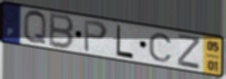B: (47, 12, 76, 52)
C: (147, 32, 174, 64)
L: (115, 24, 135, 61)
P: (82, 18, 109, 54)
Q: (22, 10, 48, 47)
Z: (176, 33, 202, 72)
